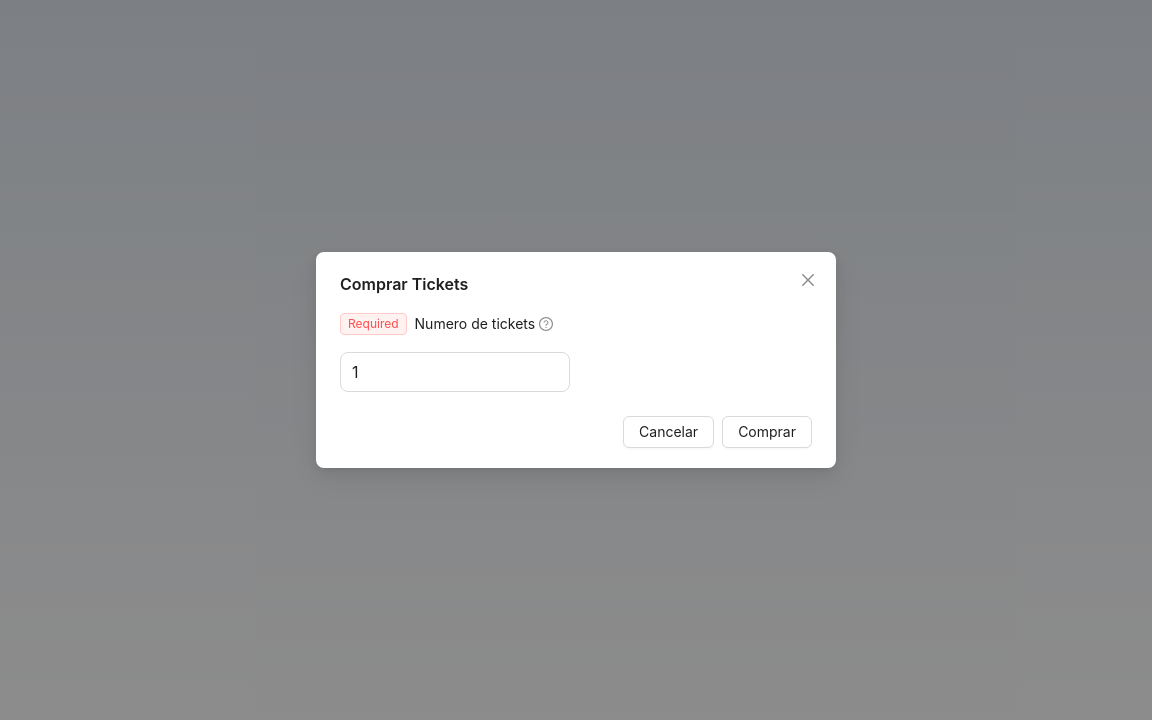
Test: FormTickets Component › validates number of tickets
Replace the text in the number field with test id "input-tickets" with "30". click: [453, 372]
box: x1=352 y1=353 x2=554 y2=391
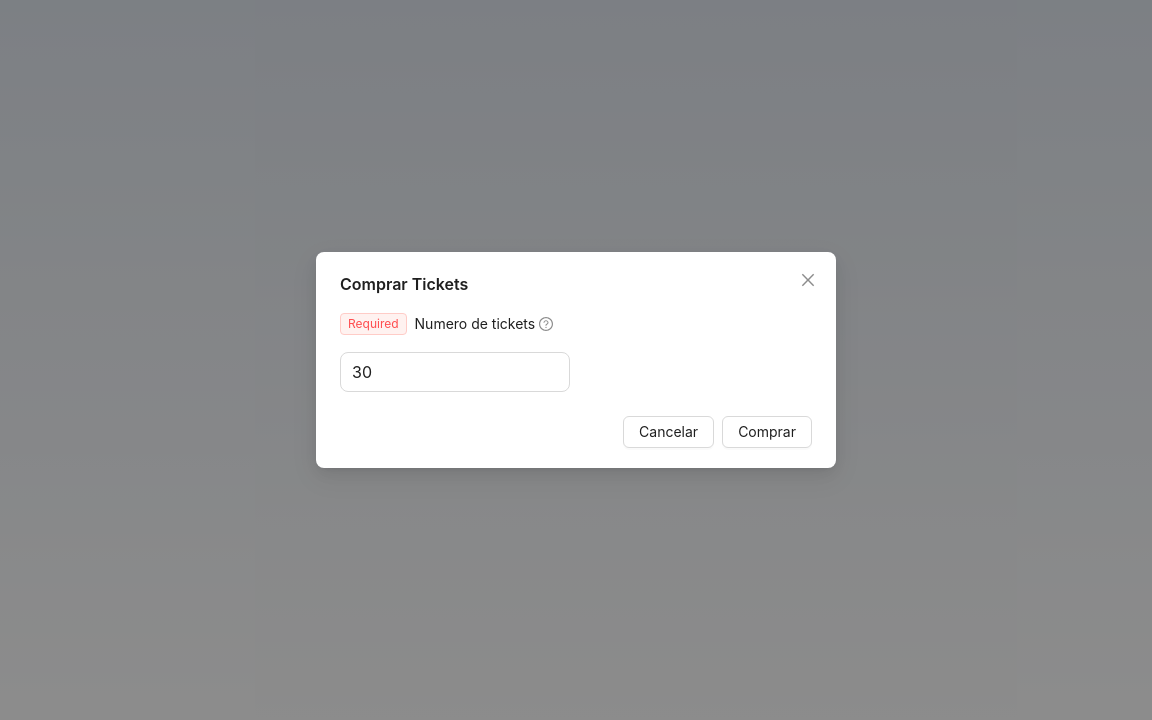
Leave the number field with test id "input-tickets", box x1=352 y1=353 x2=554 y2=391
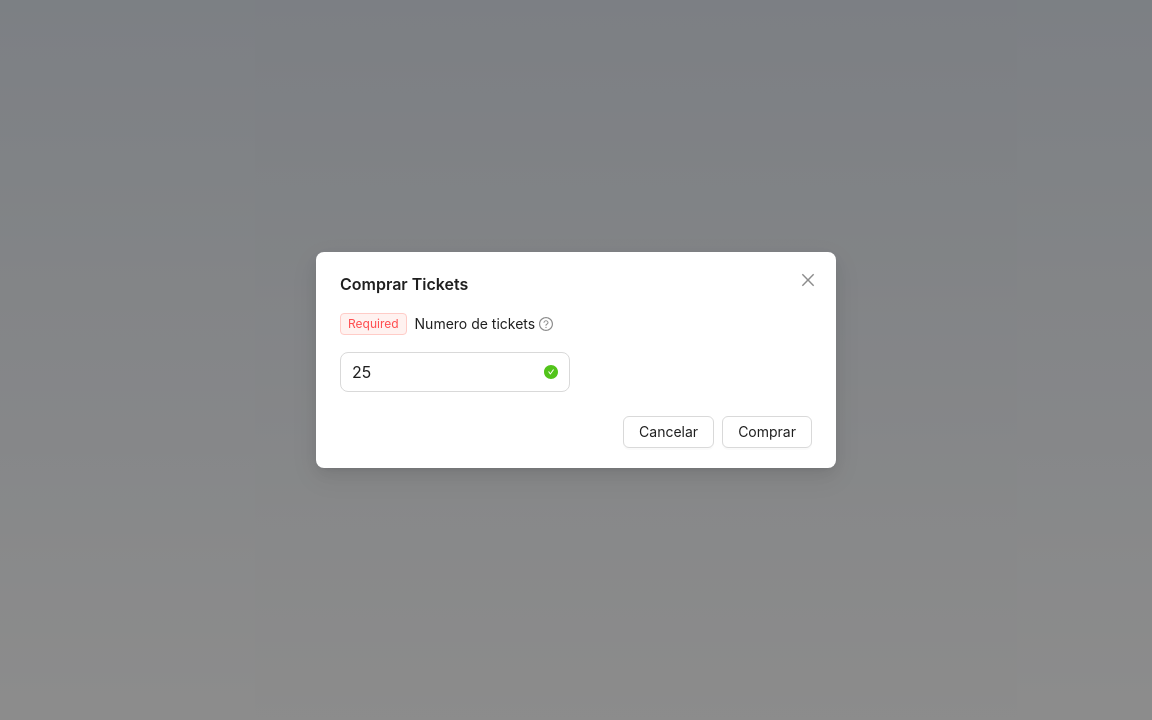
Now the number field with test id "input-tickets" holds "25", box x1=352 y1=353 x2=540 y2=391
